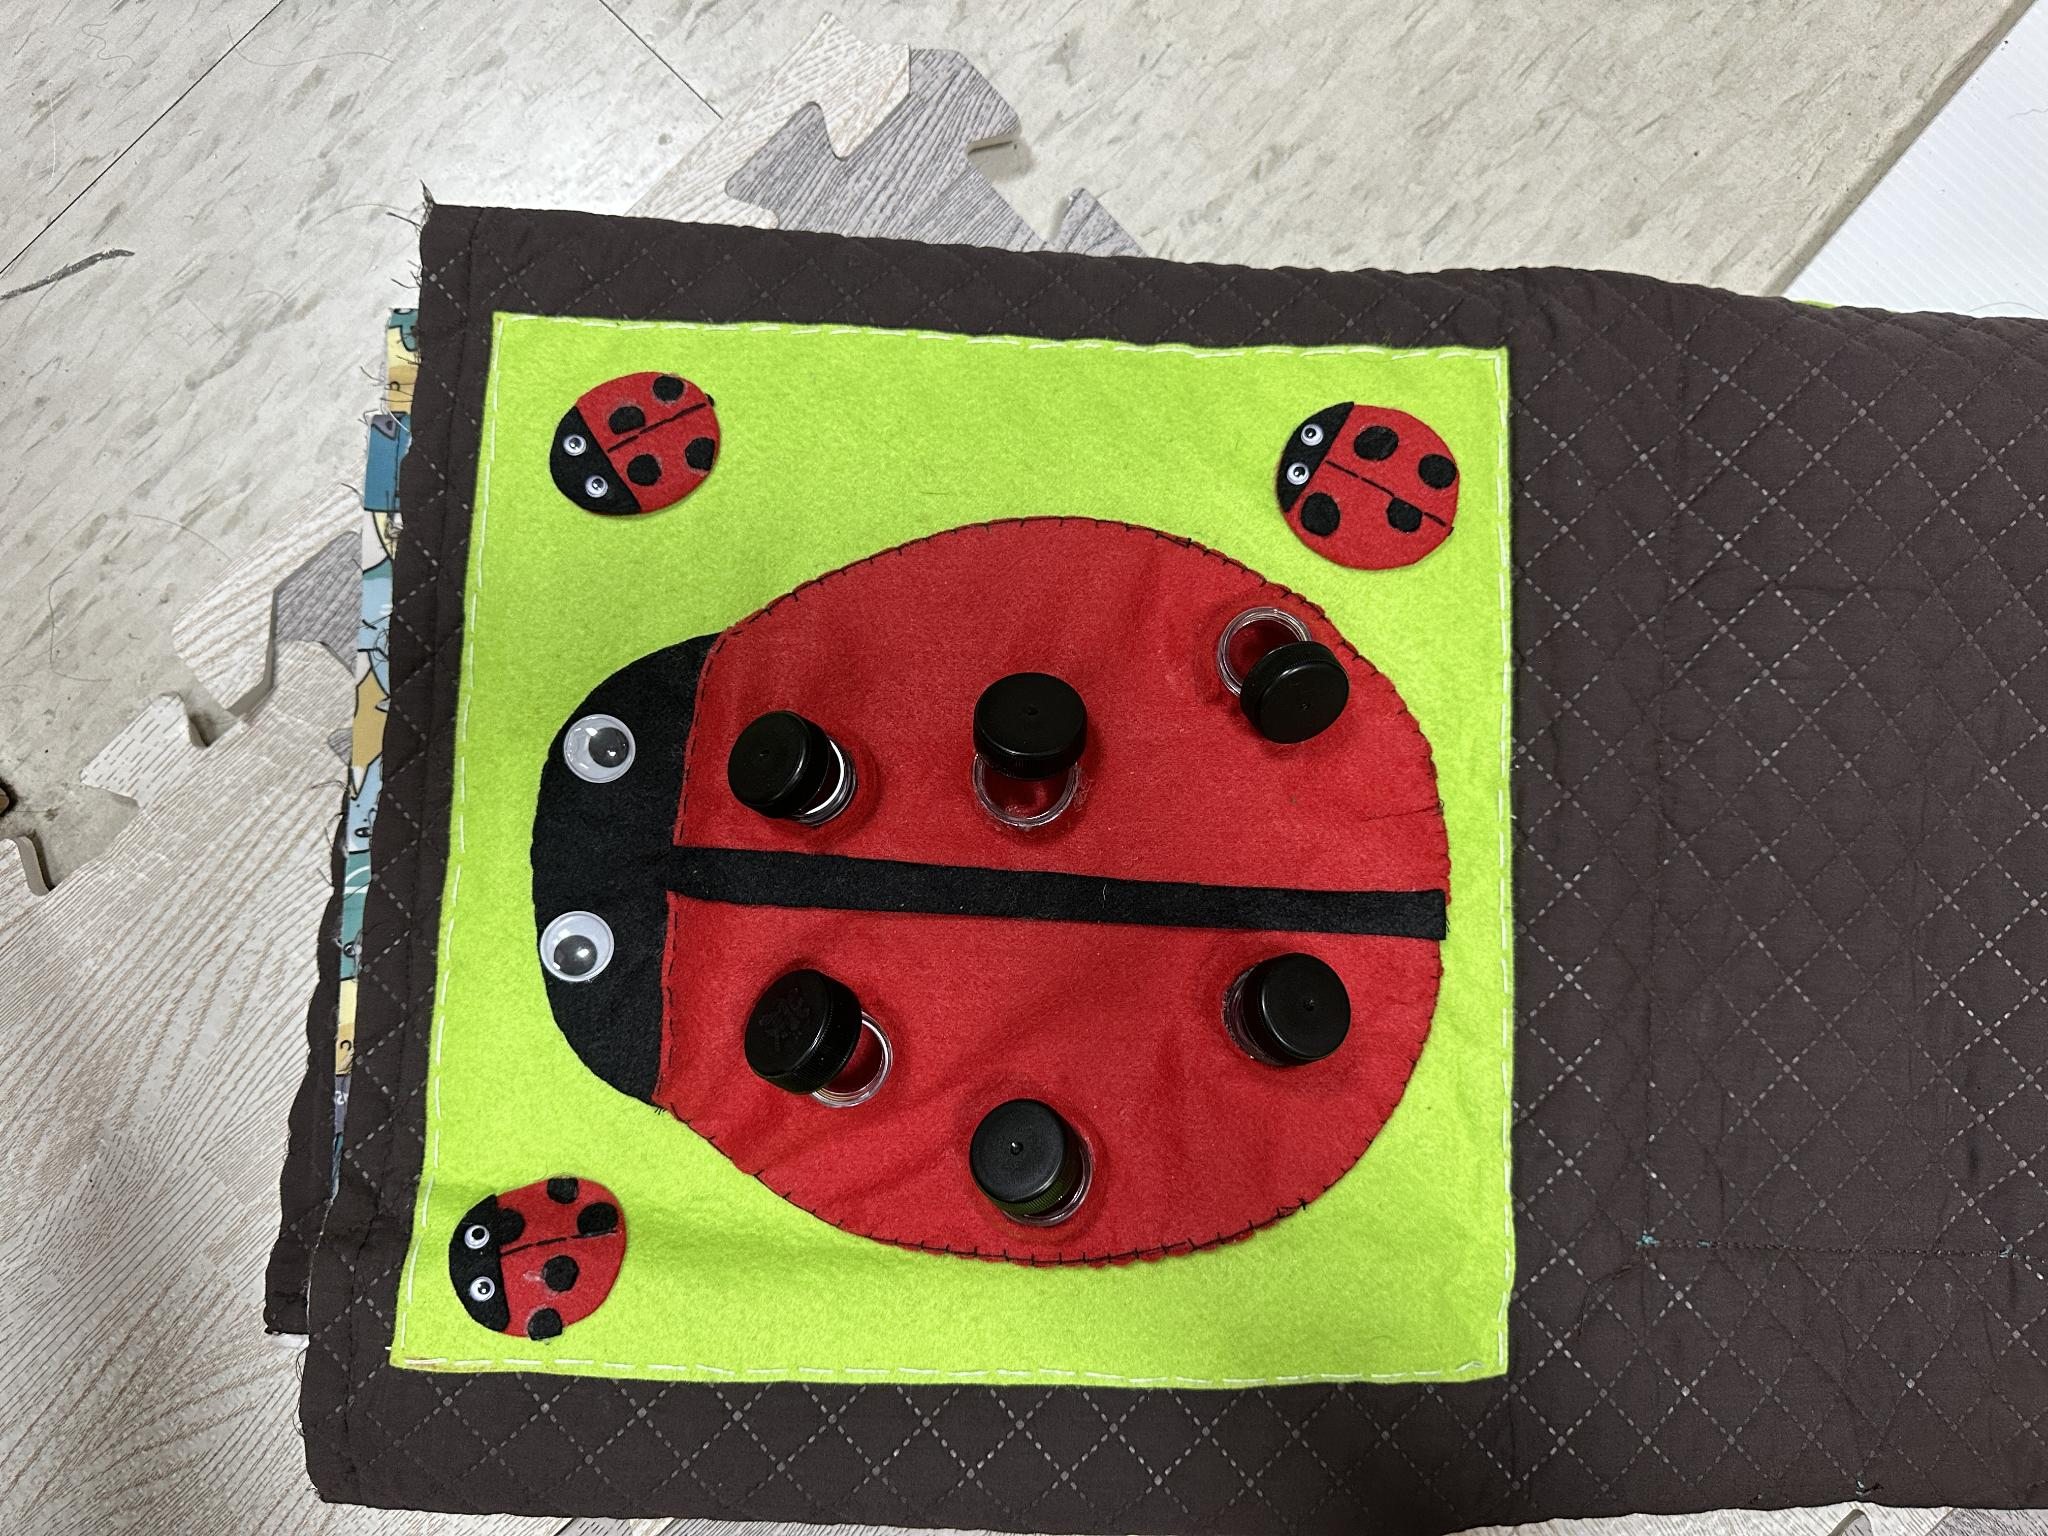cap_ng: (942, 1066, 1121, 1239), (948, 660, 1105, 854), (714, 686, 893, 849), (734, 965, 911, 1113), (1208, 594, 1358, 752)
cap_ok: (1190, 939, 1385, 1092)
